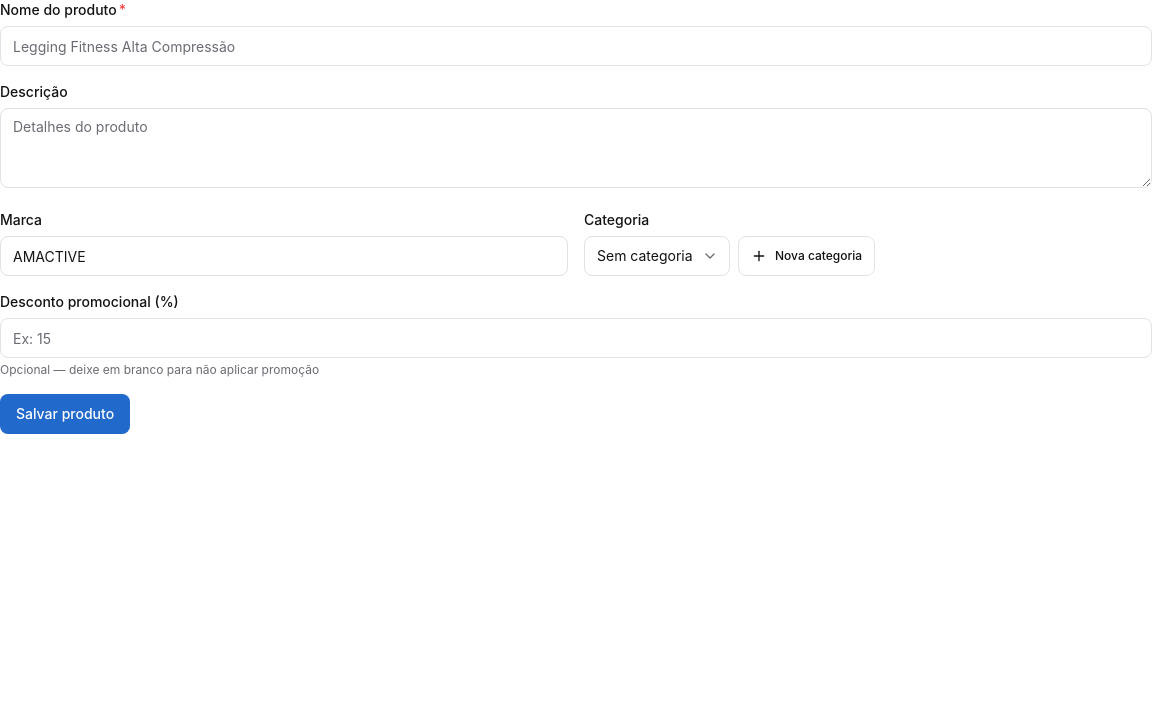
Scenario: ProdutoForm — criação de categoria inline › seleciona automaticamente a categoria recém-criada no select do produto
Click the button "Nova categoria".
click(807, 256)  # box [738,236,875,276]
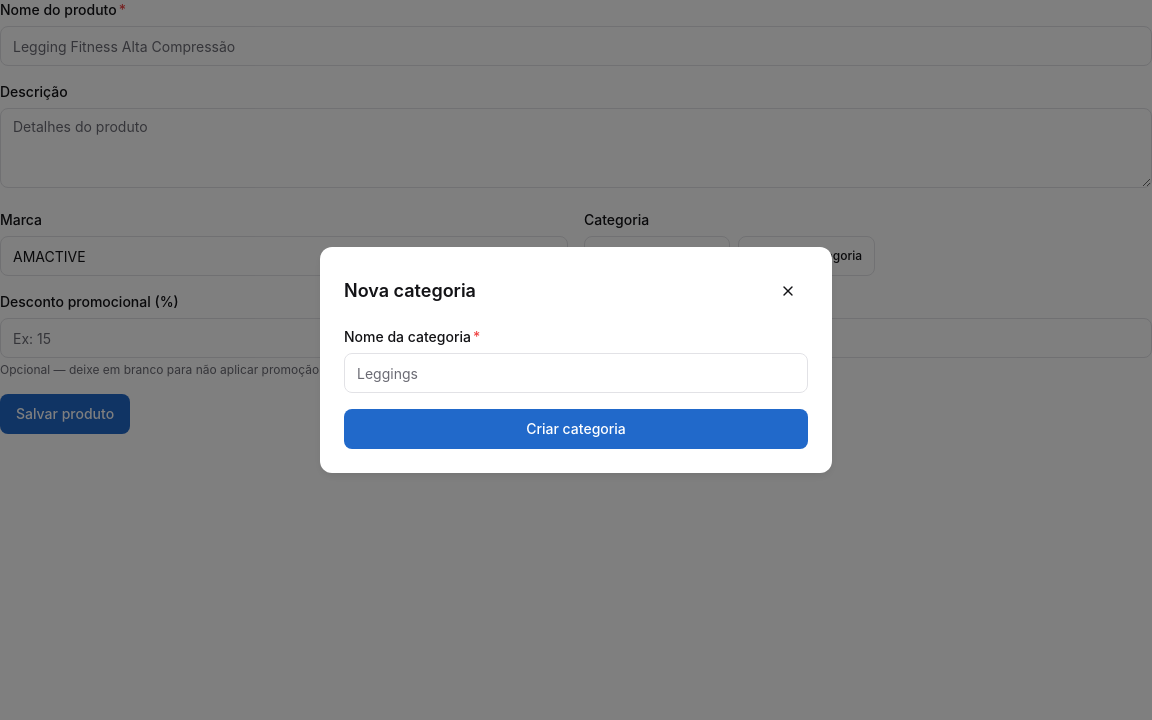
Type "Tops" into the field labelled "Nome da categoria*".
click(576, 373); type("Tops")  # box [344,353,808,393]
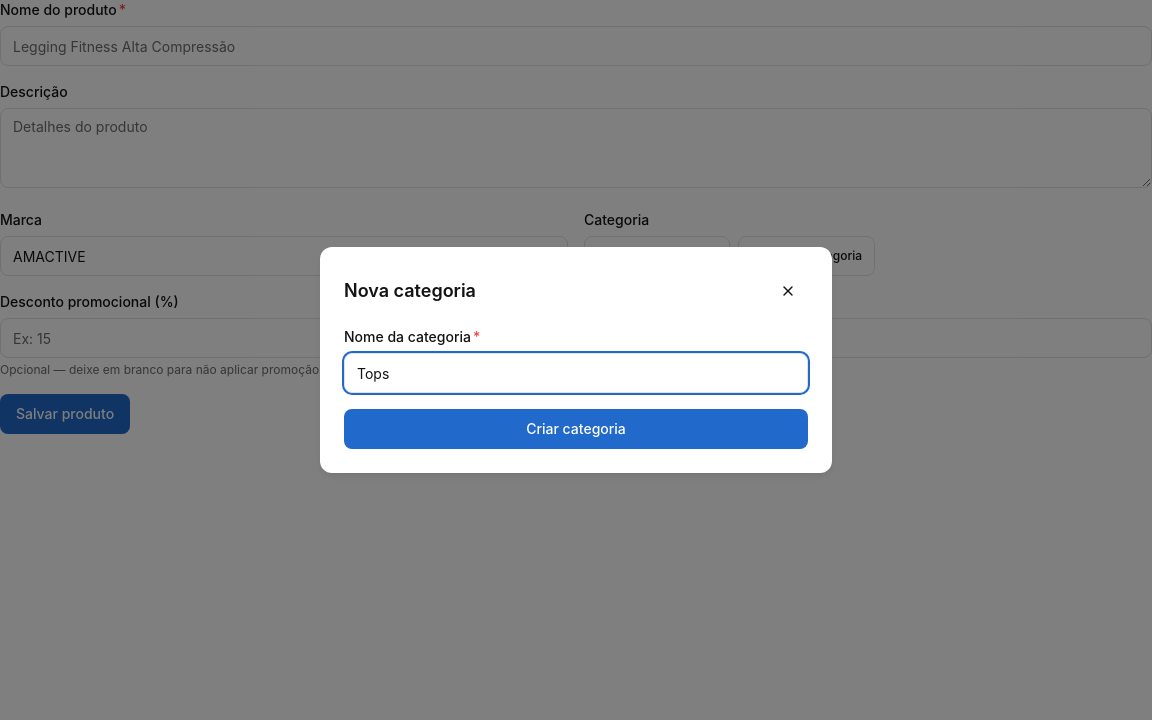
Click the button "Criar categoria".
click(576, 429)  # box [344,409,808,449]
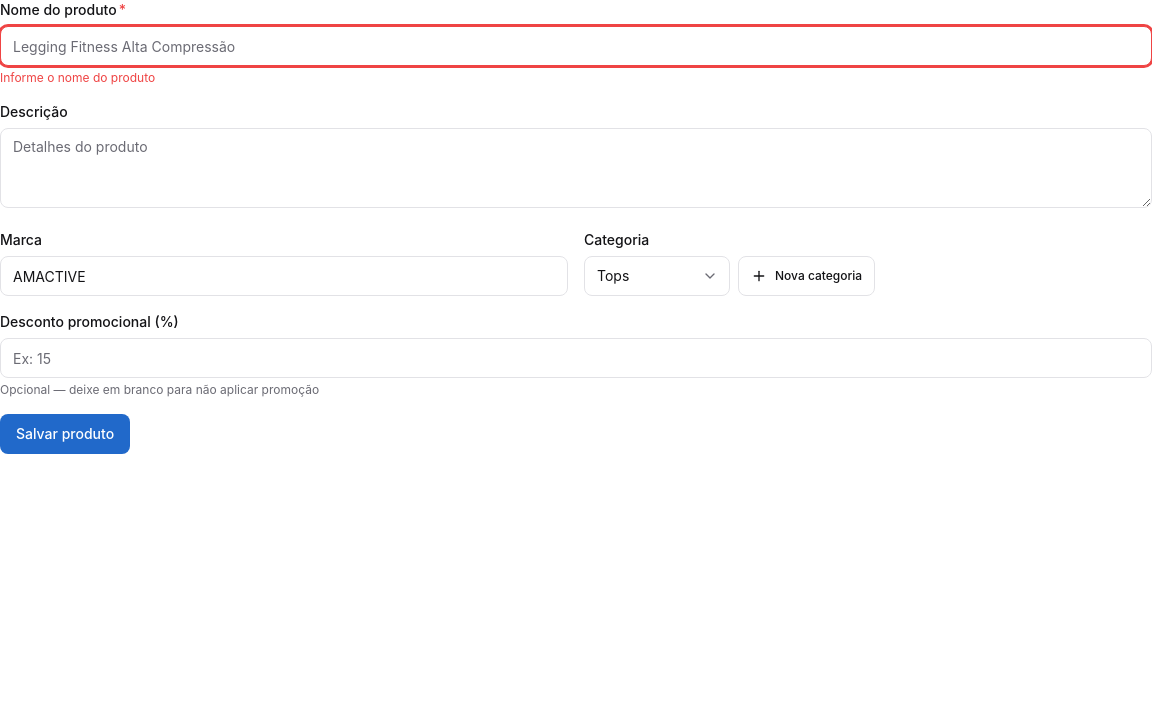
Result: the dialog is gone
Result: the dropdown labelled "Categoria" shows "Tops" at [584,256,730,296]
